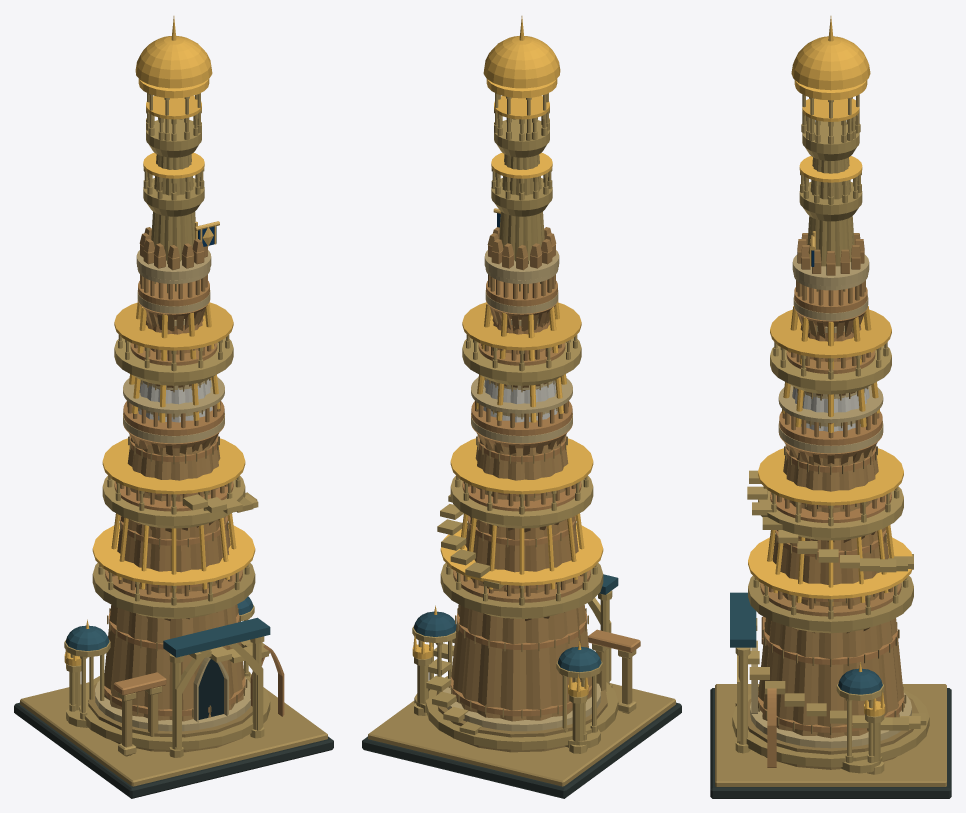
The picture shows the model from 3 angles, left to right: view 1: azimuth 30°, elevation 25°; view 2: azimuth 150°, elevation 25°; view 3: azimuth 270°, elevation 25°; orthographic projection. The views are drawn at different scales.
Parts seen in each view (by area): view 1: archer_tower_L15_0, archer_tower_L15_1; view 2: archer_tower_L15_0, archer_tower_L15_1; view 3: archer_tower_L15_0, archer_tower_L15_1.
Part boxes in pixels (left/top/right/bottom): archer_tower_L15_0: left=14, top=93, right=333, bottom=798; archer_tower_L15_1: left=64, top=16, right=255, bottom=665; archer_tower_L15_0: left=362, top=93, right=681, bottom=798; archer_tower_L15_1: left=412, top=16, right=603, bottom=697; archer_tower_L15_0: left=710, top=94, right=951, bottom=798; archer_tower_L15_1: left=748, top=16, right=912, bottom=716.
Size of the model in its own units: 3.6 by 12.1 by 3.6.
